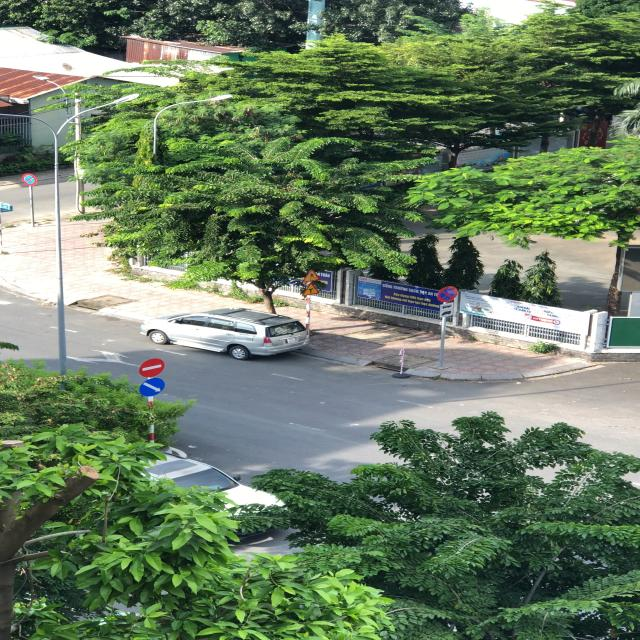Bien bao cam di nguoc chieu: (138, 357, 168, 379)
Bien bao cam dung xe va do xe: (434, 287, 466, 304)
Bien bao duong giao nhau: (301, 282, 322, 297)
Bien bao duong nguoi di bo cat ngang: (299, 269, 324, 283)
Bien bao huong phai di vong chuong ngai vat: (137, 378, 168, 400)
